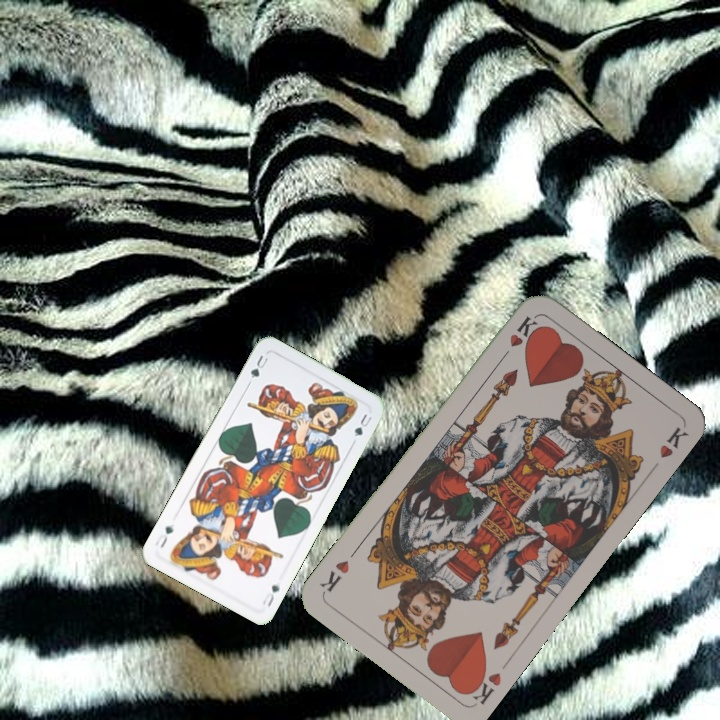GU: (246, 351, 271, 381), (258, 581, 282, 609)
HK: (496, 312, 541, 363), (462, 664, 504, 707)
